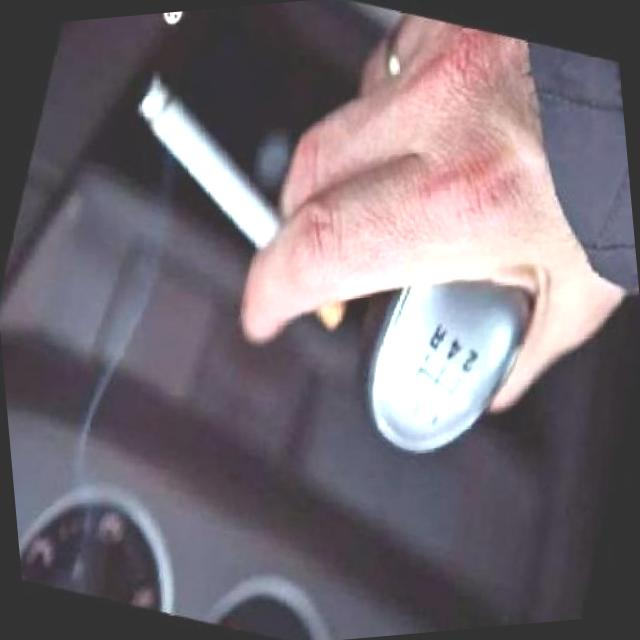cigarette: (75, 46, 408, 357)
